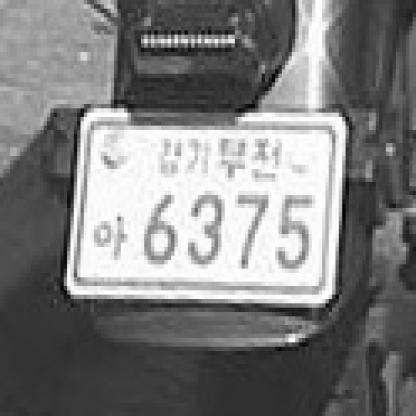bnum: (61, 100, 352, 313)
